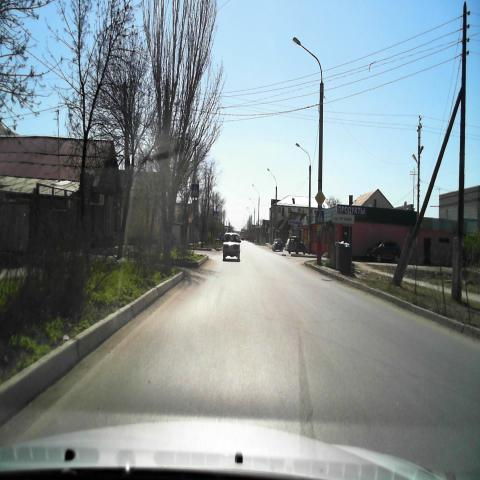2_1: (314, 189, 326, 207)
5_19_1: (191, 184, 199, 198), (316, 210, 324, 223)
